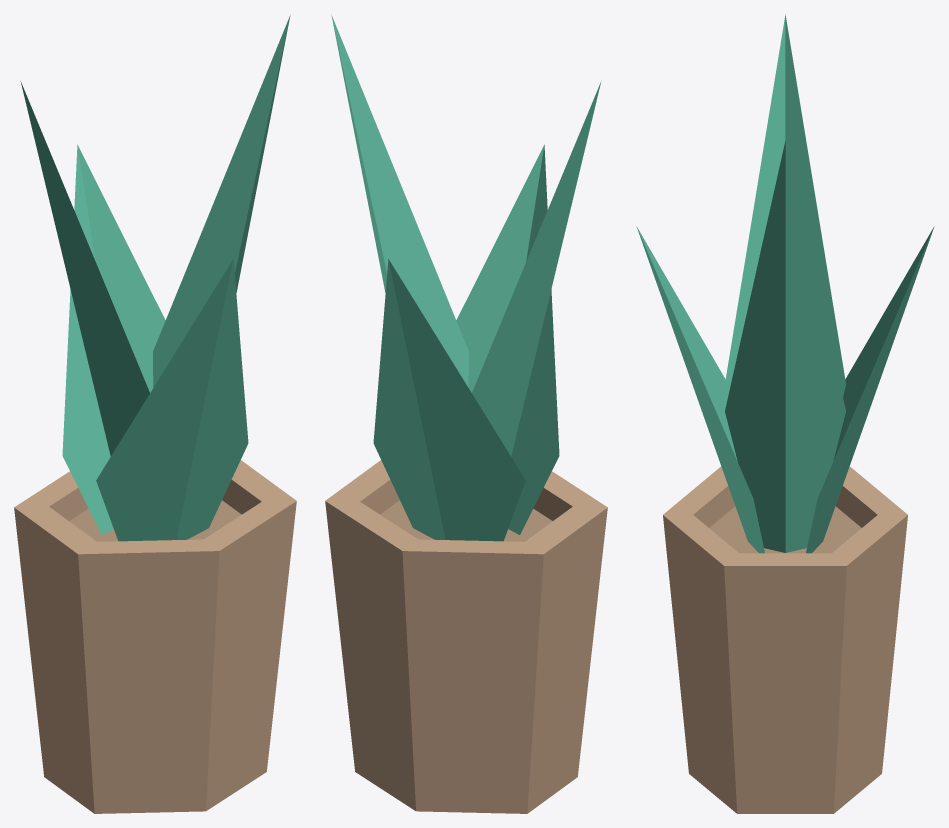
File: plant.glb
The picture shows the model from 3 angles, left to right: view 1: azimuth 30°, elevation 25°; view 2: azimuth 150°, elevation 25°; view 3: azimuth 270°, elevation 25°; orthographic projection. The views are drawn at different scales.
Parts seen in each view (by area): view 1: plant; view 2: plant; view 3: plant.
Part boxes in pixels (x1,y1,x2,y2): plant: [14, 14, 296, 813]; plant: [325, 14, 607, 813]; plant: [636, 14, 934, 813].
Size of the model in its own units: 0.35 by 0.9 by 0.35.
